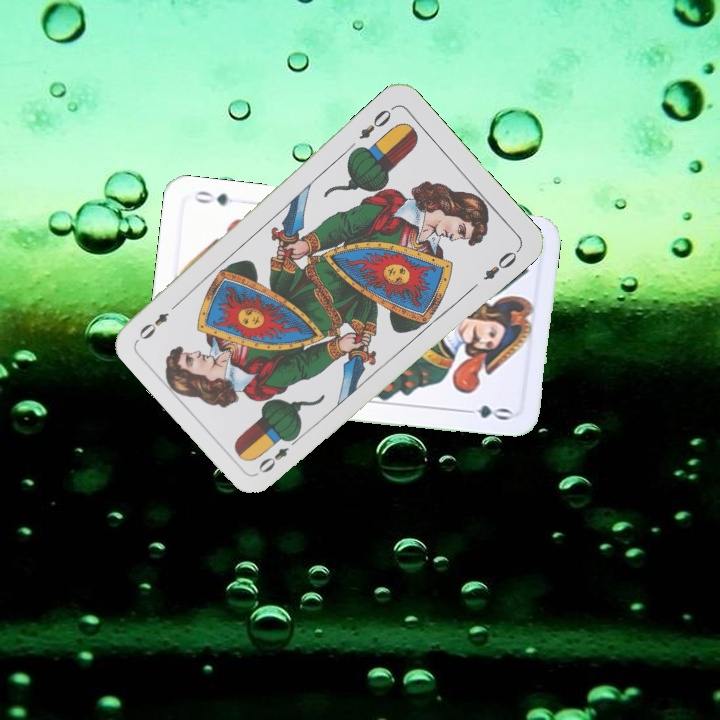EO: (254, 431, 303, 476), (355, 102, 398, 142)
